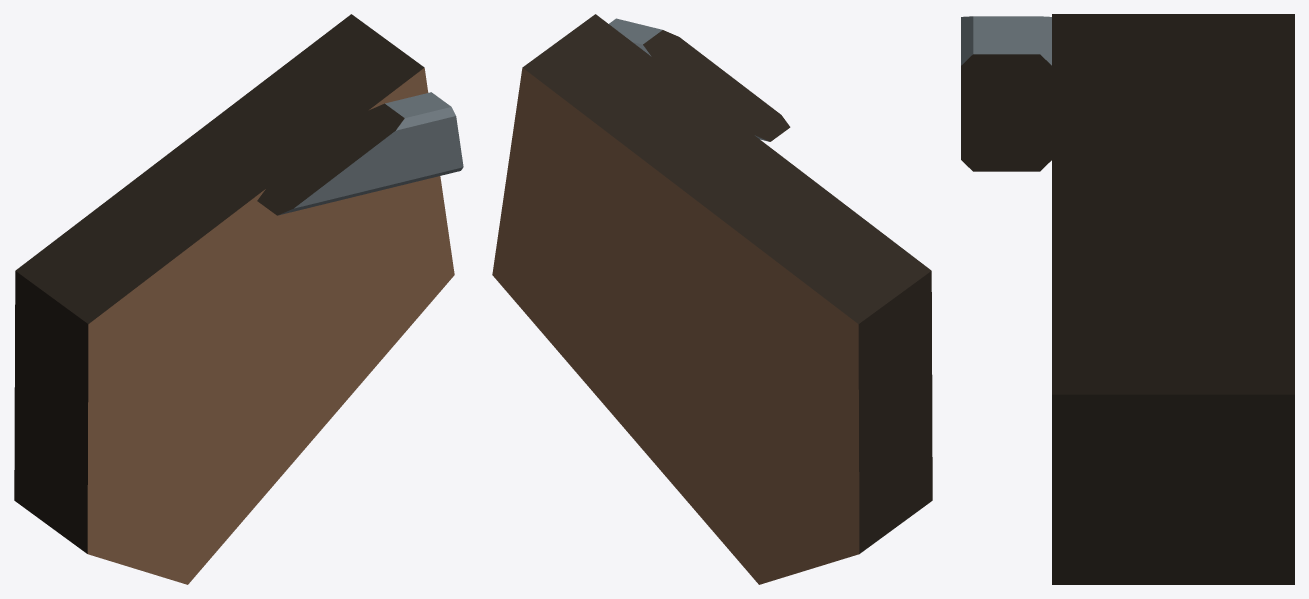
The model's file is SM_DoorShard_02_21.fbx.
The picture shows the model from 3 angles, left to right: view 1: azimuth 30°, elevation 25°; view 2: azimuth 150°, elevation 25°; view 3: azimuth 270°, elevation 25°; orthographic projection. The views are drawn at different scales.
Visible parts, largest first — view 1: SM_DoorShard_02_21; view 2: SM_DoorShard_02_21; view 3: SM_DoorShard_02_21.
Part boxes in pixels (x1,y1,x2,y2): SM_DoorShard_02_21: (14,14,463,584); SM_DoorShard_02_21: (492,14,932,584); SM_DoorShard_02_21: (961,14,1294,584).
Size of the model in its own units: 46.35 by 22 by 55.45.
